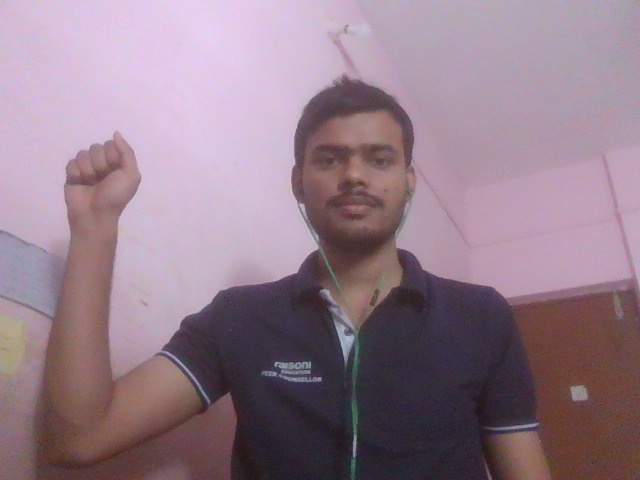Yes: (8, 105, 232, 323)
